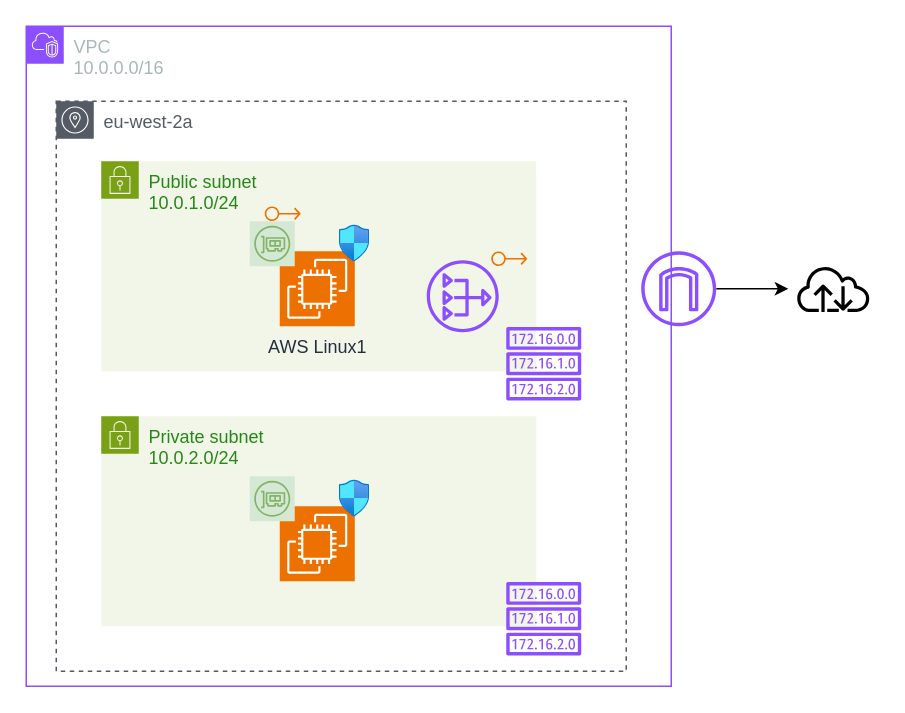
Some shapes in this 905 by 713 pixel diagram are drawn without their labels. The box of each missing label's shape, as (x1, y1, x2, y2) in pixels:
AWS Linux2: (278, 505, 355, 581)
Internet: (787, 242, 878, 334)
